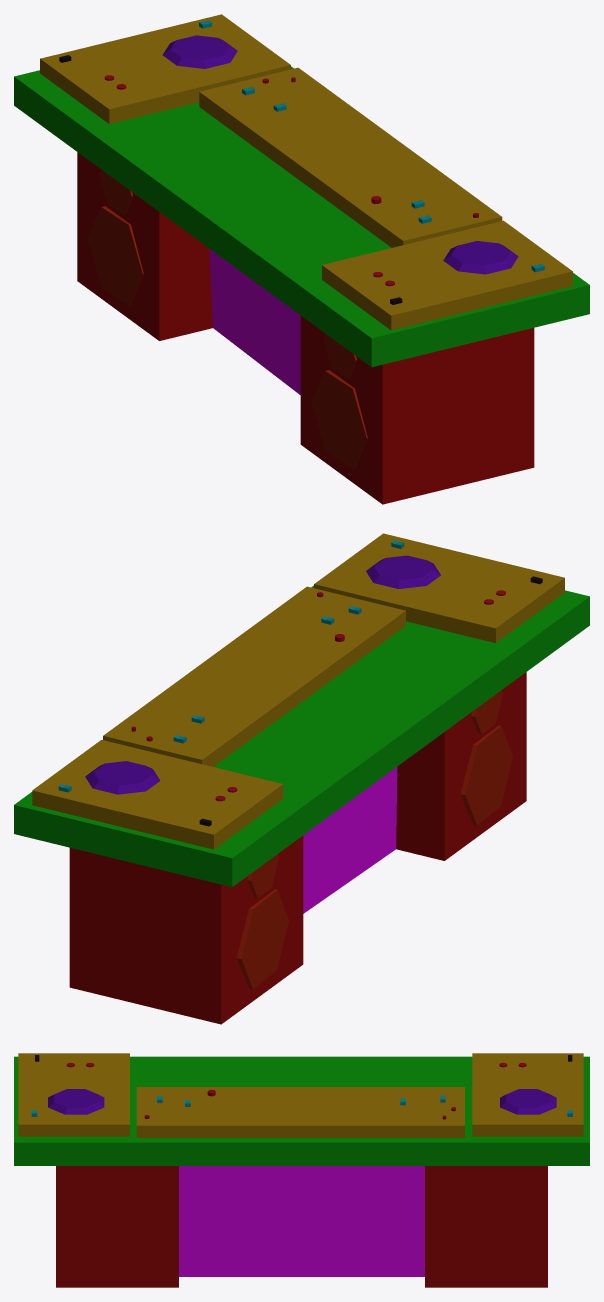
File: mesa dj.fbx
3 renders of one model, top to bottom at view 1: azimuth 30°, elevation 25°; view 2: azimuth 150°, elevation 25°; view 3: azimuth 270°, elevation 25°, orthographic. The views are drawn at different scales.
Visible parts, largest first — view 1: Mesa_DJ; view 2: Mesa_DJ; view 3: Mesa_DJ.
Boxes of the visible parts, bbox=[...] form: Mesa_DJ: bbox=[14, 14, 589, 504]; Mesa_DJ: bbox=[14, 533, 589, 1024]; Mesa_DJ: bbox=[14, 1053, 589, 1287].
Bounding box in the file's own units: 1.79 × 1.69 × 5.09.
